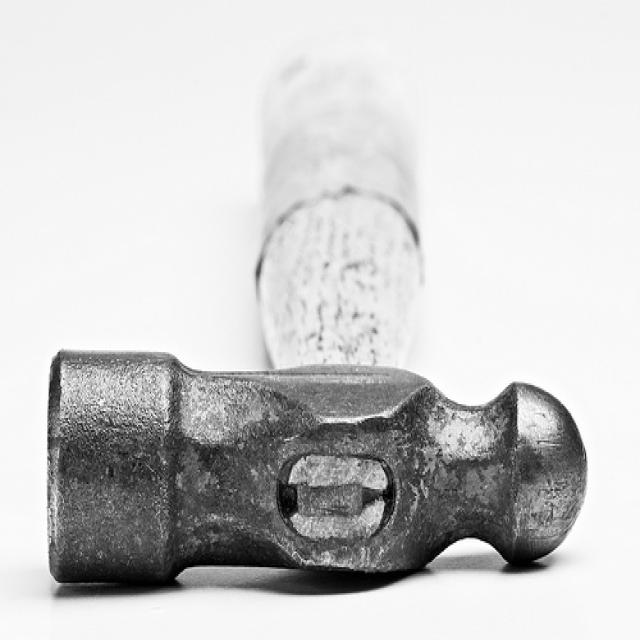hammer: (33, 44, 625, 636)
